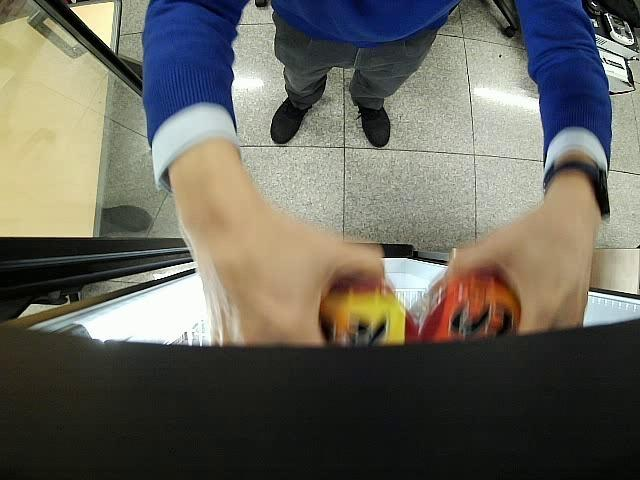05_nuguri_L: (410, 270, 522, 344), (323, 270, 422, 346)
